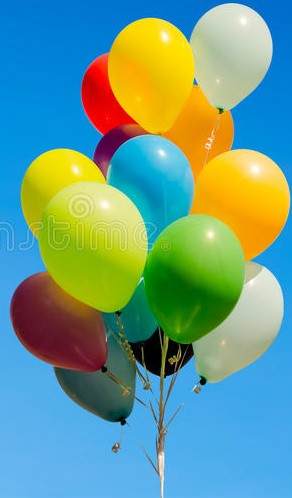Balloon: (41, 182, 147, 315), (146, 215, 245, 342), (193, 264, 285, 384), (194, 149, 292, 261), (107, 18, 196, 134), (10, 271, 108, 372), (108, 135, 191, 246), (191, 4, 273, 109)
